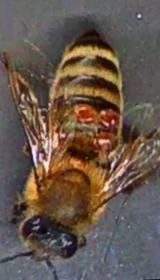varroa_mite: (82, 94, 126, 134), (90, 118, 120, 157), (70, 94, 99, 122)
